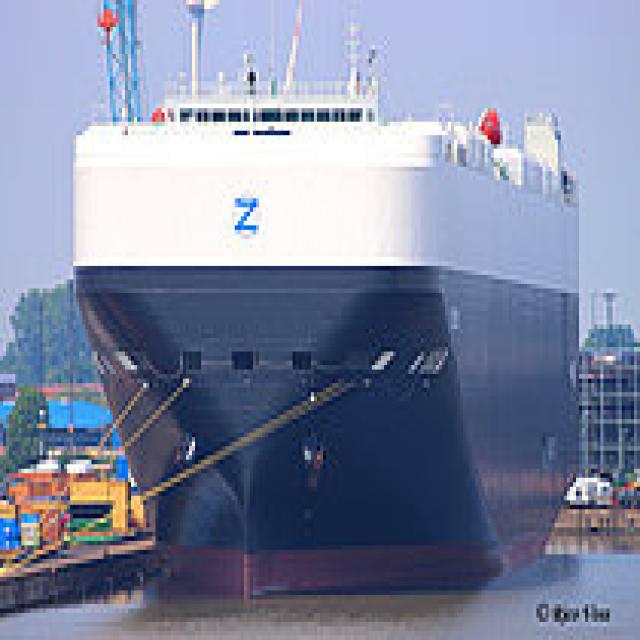Carrier: (61, 59, 582, 613)
